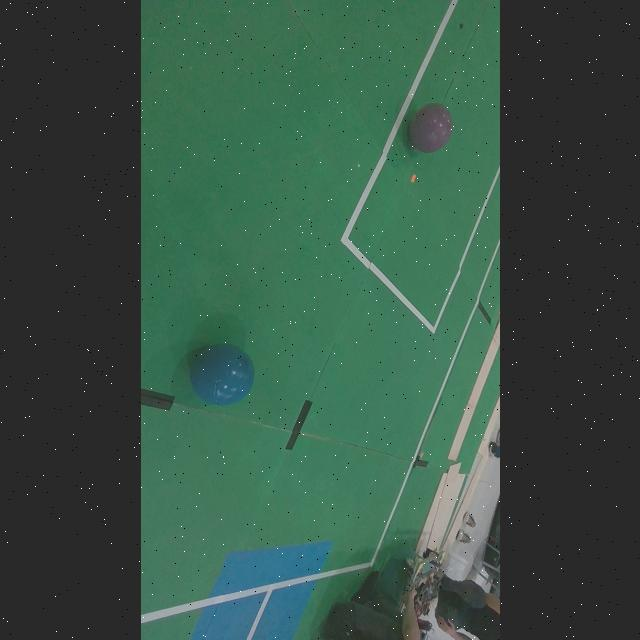B: (189, 344, 254, 406)
P: (408, 104, 453, 152)
